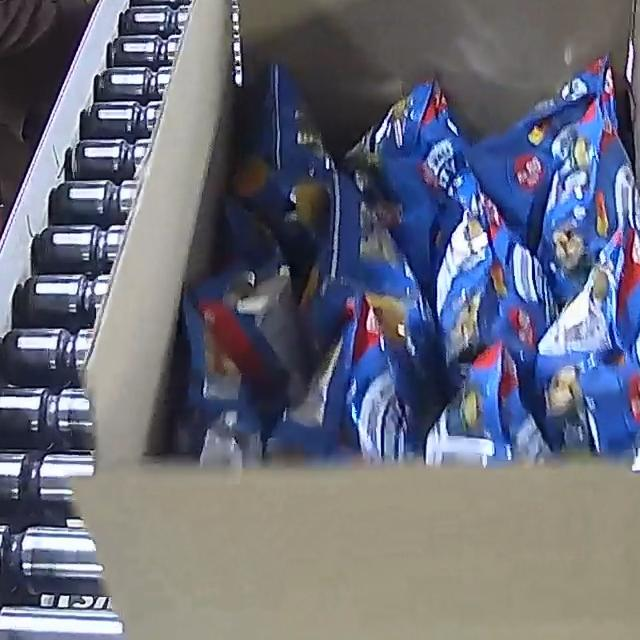paprika: (179, 48, 640, 468)
